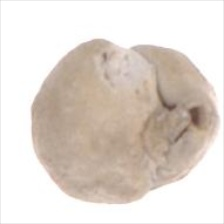L3: (141, 92, 211, 162)
L4: (30, 39, 218, 203)
